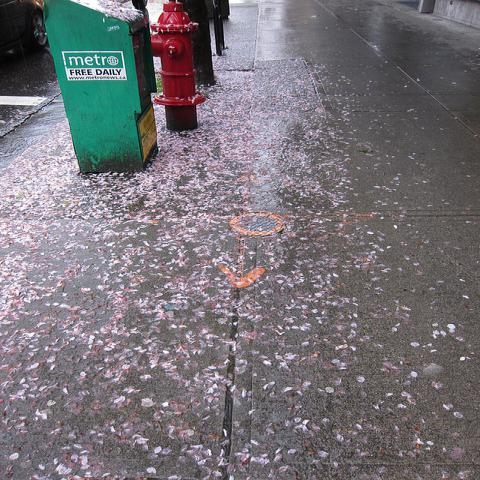car: (0, 0, 49, 54)
